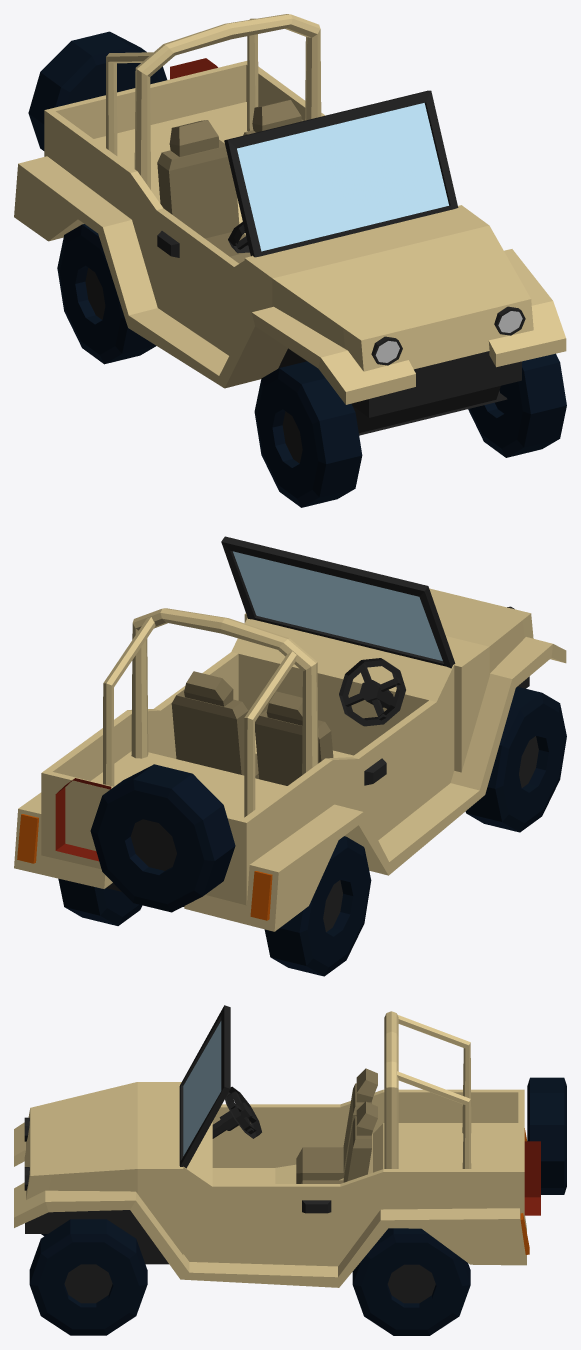
The model's file is jeep.glb.
The picture shows the model from 3 angles, top to bottom: view 1: azimuth 30°, elevation 25°; view 2: azimuth 150°, elevation 25°; view 3: azimuth 270°, elevation 25°; orthographic projection. The views are drawn at different scales.
Parts seen in each view (by area): view 1: Jeep; view 2: Jeep; view 3: Jeep.
Part boxes in pixels (x1=…): Jeep: x1=14, y1=14, x2=566, y2=507; Jeep: x1=14, y1=536, x2=566, y2=976; Jeep: x1=14, y1=1005, x2=566, y2=1335.
Bounding box in the file's own units: 2.04 × 2.33 × 4.56.
